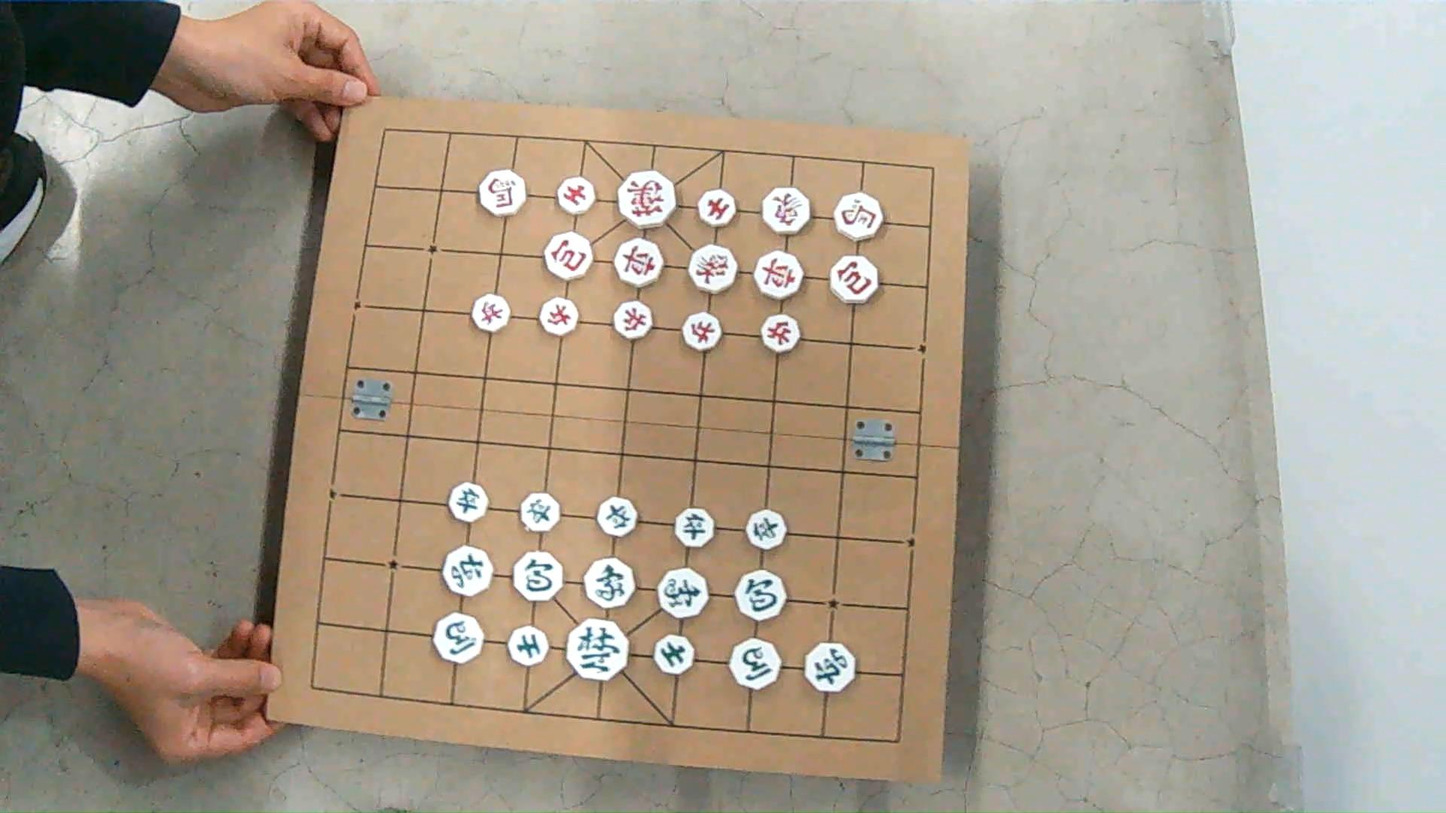cha_green: (804, 642, 856, 692), (443, 546, 492, 596)
cha_red: (754, 251, 802, 300), (615, 238, 662, 287)
jol_green: (746, 510, 786, 550), (520, 492, 559, 532), (448, 483, 487, 522), (598, 497, 636, 536), (676, 508, 714, 547)
jol_red: (761, 315, 800, 354), (539, 297, 577, 336), (682, 312, 720, 351), (471, 294, 509, 332), (614, 301, 651, 340)
ma_green: (434, 613, 483, 663), (731, 639, 779, 689)
ma_red: (833, 193, 881, 241), (478, 170, 526, 217)
po_green: (735, 571, 786, 621), (513, 551, 562, 601)
po_red: (543, 233, 592, 280), (830, 256, 877, 303)
sa_green: (508, 626, 548, 665), (654, 635, 693, 674)
sa_red: (557, 177, 595, 215), (697, 190, 736, 227)
sang_green: (657, 568, 708, 618), (584, 558, 634, 607)
sang_red: (761, 187, 809, 235), (688, 245, 736, 293)
wang_green: (567, 619, 627, 681)
wang_red: (618, 171, 676, 228)
